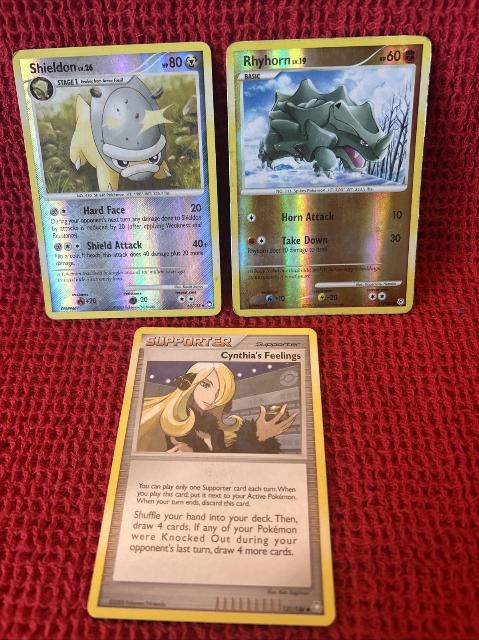Card: (84, 324, 340, 630), (9, 39, 226, 323), (223, 32, 436, 321)
Name: (219, 348, 306, 363), (26, 58, 80, 78), (239, 51, 294, 70)
